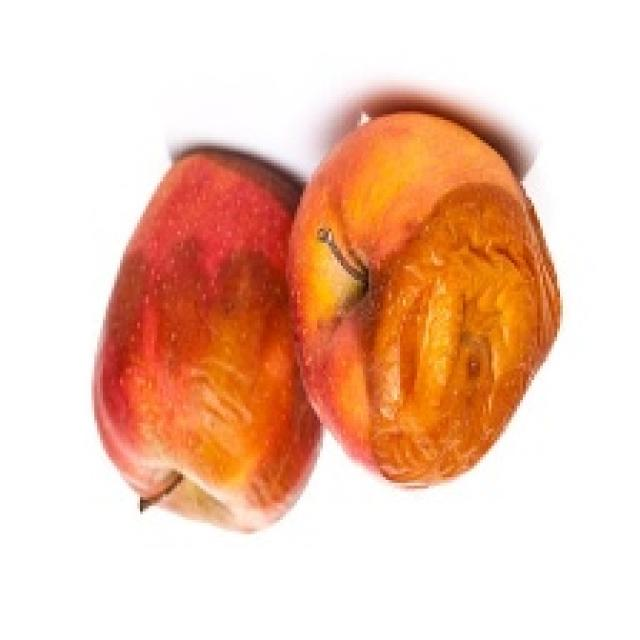rotten_apple: (300, 118, 555, 488), (96, 153, 292, 533)
